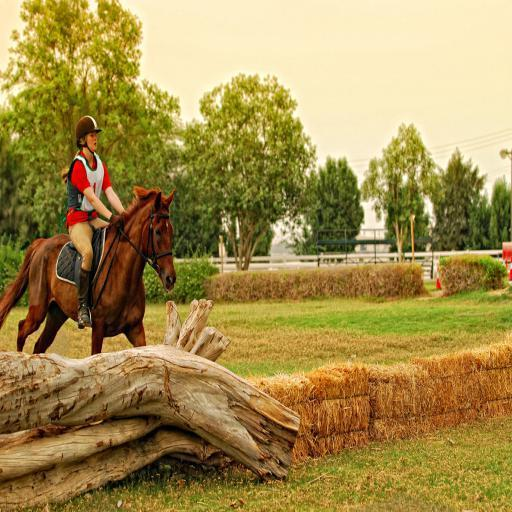horse: (2, 184, 179, 354)
